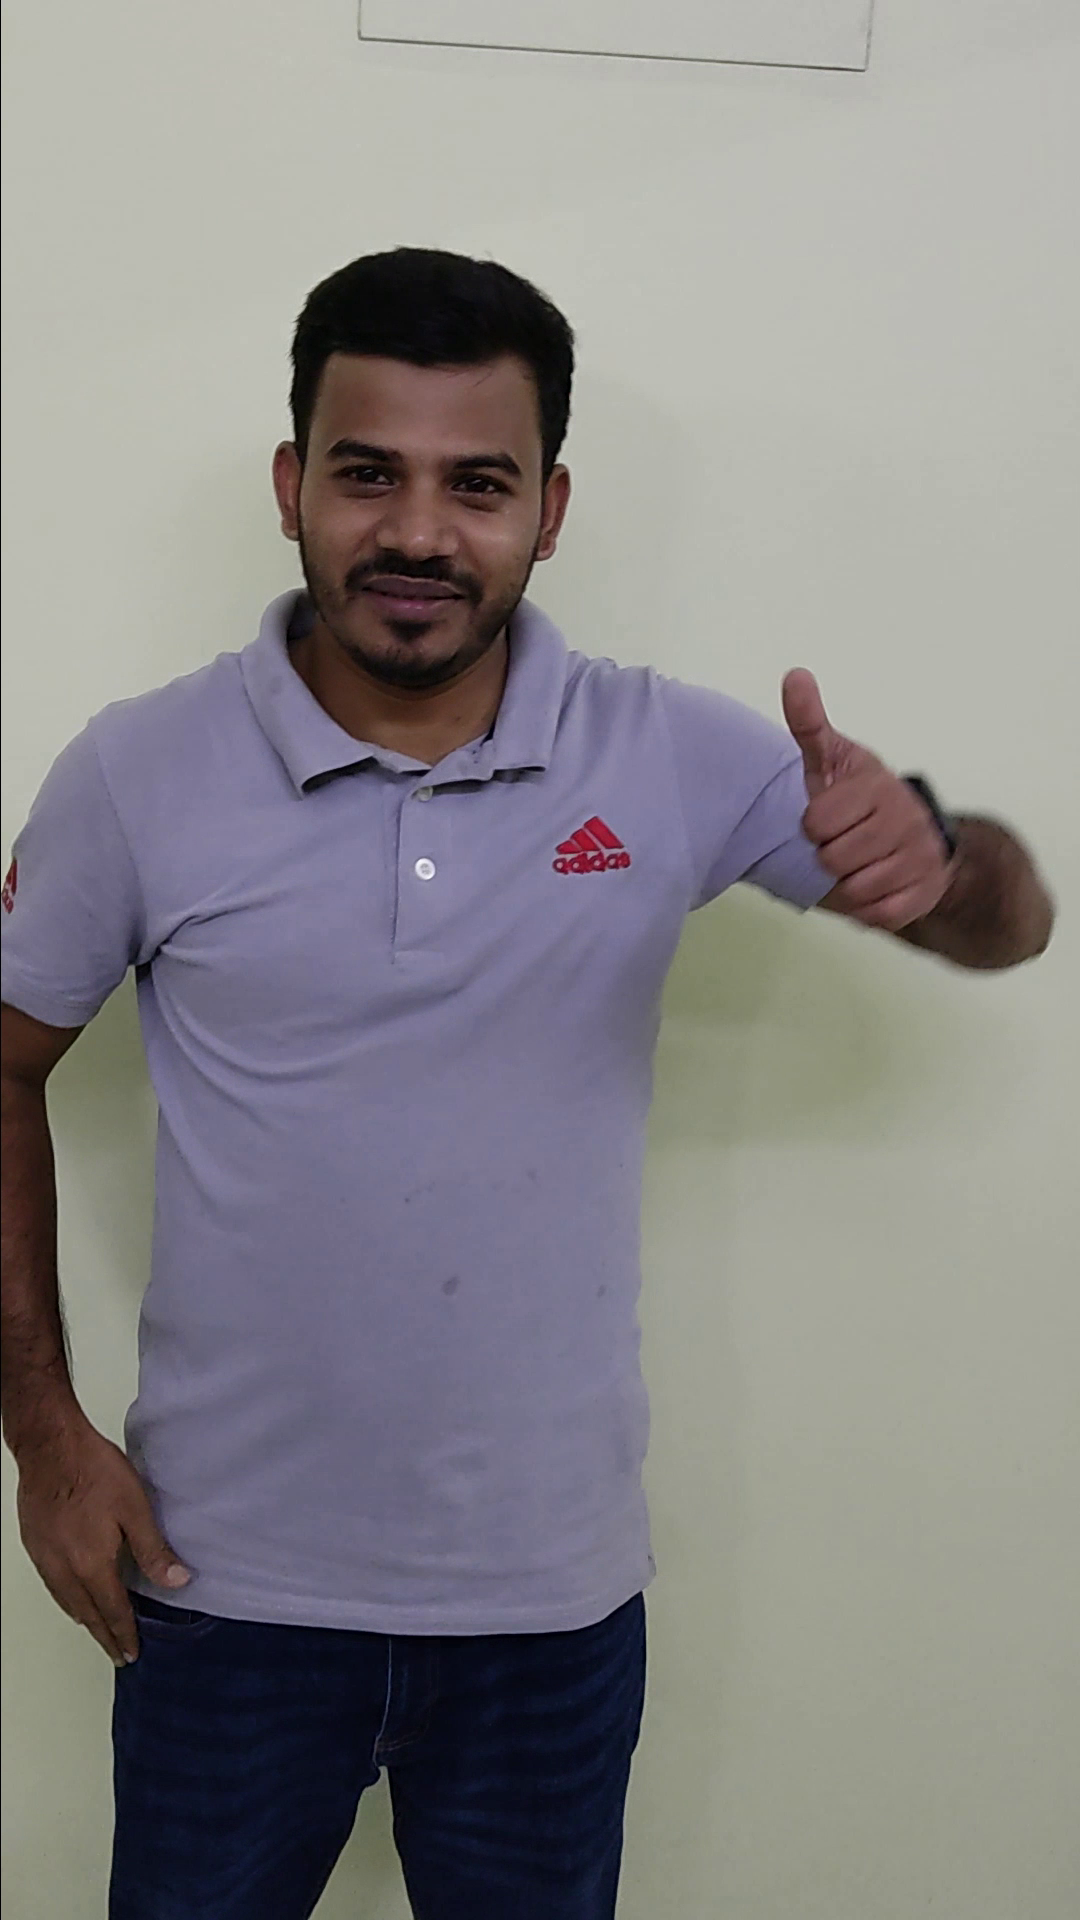Like: (742, 665, 977, 949)
None: (3, 1395, 208, 1679)
